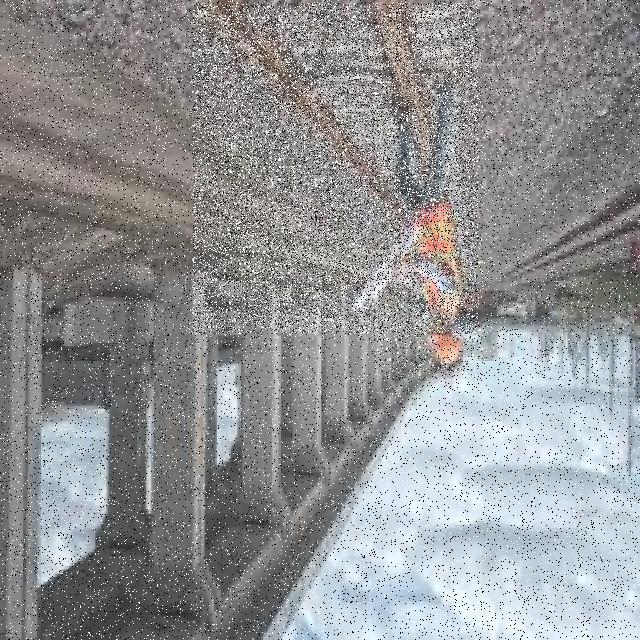danger: (374, 86, 483, 379)
rail: (194, 3, 478, 334)
